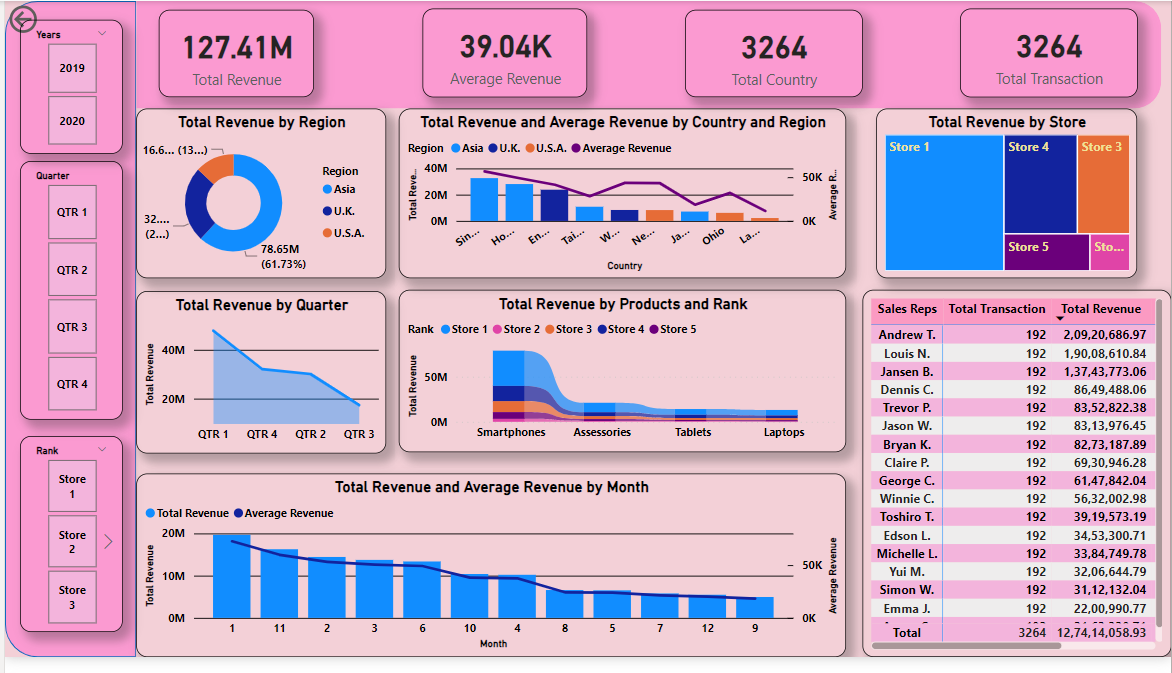

What the dashboard file says about the page in this screenshot:
{"tool":"powerbi","page":{"name":"Page 1","canvas":[1280,720],"ordinal":0},"visuals":[{"type":"shape","box":[0,0,144.1,720.4],"z":0},{"type":"shape","box":[144.1,0,1125.2,118],"z":1000},{"type":"card","fields":{"Values":["Measures (2).Total Revenue"]},"box":[168.8,9.6,170.2,96.1],"z":2000},{"type":"card","fields":{"Values":["Measures (2).Average Revenue"]},"box":[458.3,8.2,181.1,97.4],"z":3000},{"type":"card","fields":{"Values":["Measures (2).Total Country"]},"box":[746.5,9.6,194.9,96.1],"z":4000},{"type":"card","fields":{"Values":["Measures (2).Total Transaction"]},"box":[1048.4,8.2,194.9,97.4],"z":5000},{"type":"donutChart","fields":{"Y":["Measures (2).Total Revenue"],"Category":["Sheet1.Region"]},"box":[144.1,118,274.4,186.6],"z":6000},{"type":"lineStackedColumnComboChart","fields":{"Category":["Sheet1.Country"],"Y":["Measures (2).Total Revenue"],"Y2":["Measures (2).Average Revenue"],"Series":["Sheet1.Region"]},"box":[432.2,118,491.3,186.6],"z":7000},{"type":"treemap","title":"Total Revenue by Store","fields":{"Values":["Measures (2).Total Revenue"],"Group":["Sheet1.Rank"]},"box":[956.4,118,286.8,186.6],"z":8000},{"type":"areaChart","fields":{"Y":["Measures (2).Total Revenue"],"Category":["Sheet1.Quarter"]},"box":[144.1,318.4,274.4,178.4],"z":9000},{"type":"ribbonChart","fields":{"Category":["Sheet1.Products"],"Y":["Measures (2).Total Revenue"],"Series":["Sheet1.Rank"]},"box":[432.2,317,491.3,178.4],"z":10000},{"type":"pivotTable","fields":{"Rows":["Sheet1.Sales Reps"],"Values":["Measures (2).Total Transaction","Measures (2).Total Revenue","Measures (2).Average Revenue"]},"box":[941.3,317,338.9,403.4],"z":11000},{"type":"actionButton","box":[0,0,100,40],"z":12000},{"type":"lineStackedColumnComboChart","fields":{"Category":["Sheet1.Month"],"Y":["Measures (2).Total Revenue"],"Y2":["Measures (2).Average Revenue"]},"box":[144.1,518.7,779.4,201.7],"z":13000},{"type":"slicer","fields":{"Values":["Sheet1.Years"]},"box":[16.5,20.6,112.5,146.8],"z":14000},{"type":"slicer","fields":{"Values":["Sheet1.Quarter"]},"box":[16.5,175.6,112.5,284],"z":15000},{"type":"slicer","fields":{"Values":["Sheet1.Rank"]},"box":[16.5,477.5,112.5,215.4],"z":16000}]}

Visuals, with their boxes in screenshot pixels (x1, y1, x2, y2), scaled from the page's 1280x720 canvas onto the 1172x673 screenshot:
shape: l=0, t=0, r=132, b=672
shape: l=132, t=0, r=1162, b=110
card - Measures (2).Total Revenue: l=155, t=9, r=310, b=99
card - Measures (2).Average Revenue: l=420, t=8, r=585, b=99
card - Measures (2).Total Country: l=684, t=9, r=862, b=99
card - Measures (2).Total Transaction: l=960, t=8, r=1138, b=99
donutChart - Measures (2).Total Revenue x Sheet1.Region: l=132, t=110, r=383, b=285
lineStackedColumnComboChart - Sheet1.Country x Measures (2).Total Revenue: l=396, t=110, r=846, b=285
"Total Revenue by Store" treemap: l=876, t=110, r=1138, b=285
areaChart - Measures (2).Total Revenue x Sheet1.Quarter: l=132, t=298, r=383, b=464
ribbonChart - Sheet1.Products x Measures (2).Total Revenue: l=396, t=296, r=846, b=463
pivotTable - Sheet1.Sales Reps x Measures (2).Total Transaction: l=862, t=296, r=1171, b=672
actionButton: l=0, t=0, r=92, b=37
lineStackedColumnComboChart - Sheet1.Month x Measures (2).Total Revenue: l=132, t=485, r=846, b=672
slicer - Sheet1.Years: l=15, t=19, r=118, b=156
slicer - Sheet1.Quarter: l=15, t=164, r=118, b=430
slicer - Sheet1.Rank: l=15, t=446, r=118, b=648
